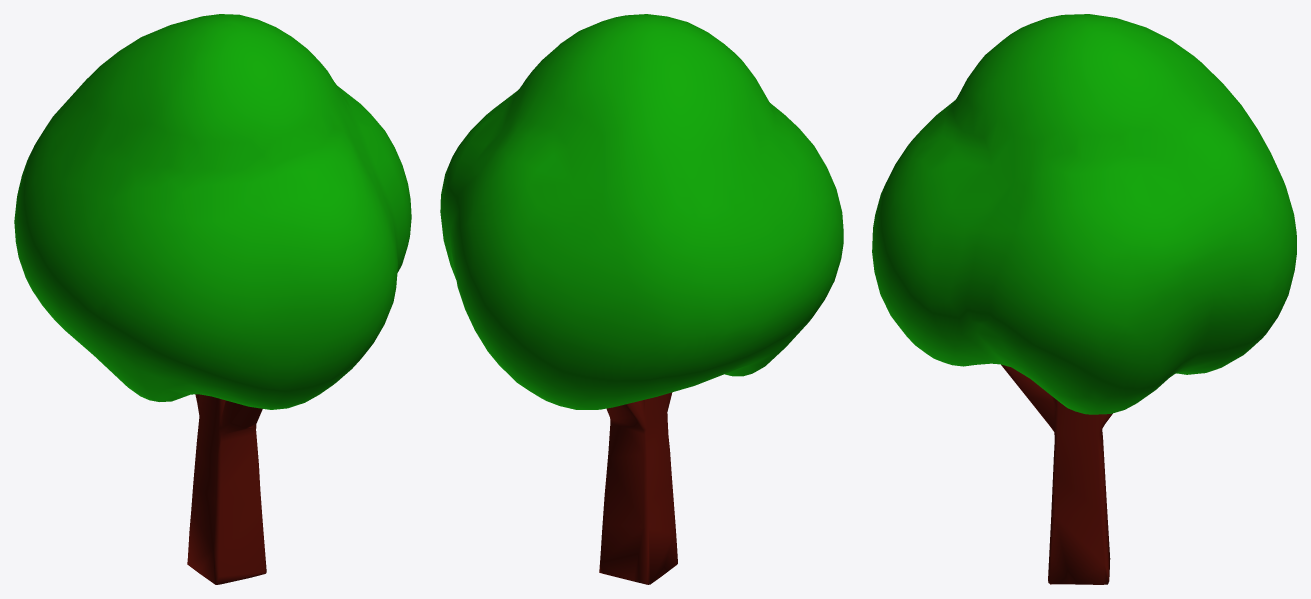
The model's file is gen3d-poplar-tree-lod0.glb.
The picture shows the model from 3 angles, left to right: view 1: azimuth 30°, elevation 25°; view 2: azimuth 150°, elevation 25°; view 3: azimuth 270°, elevation 25°; orthographic projection.
Visible parts, largest first — view 1: part_0; view 2: part_0; view 3: part_0.
Part boxes in pixels (x1=…): part_0: x1=14, y1=14, x2=411, y2=584; part_0: x1=440, y1=14, x2=843, y2=584; part_0: x1=872, y1=14, x2=1296, y2=584.
Bounding box in the file's own units: 0.6655 × 0.9913 × 0.6951.
